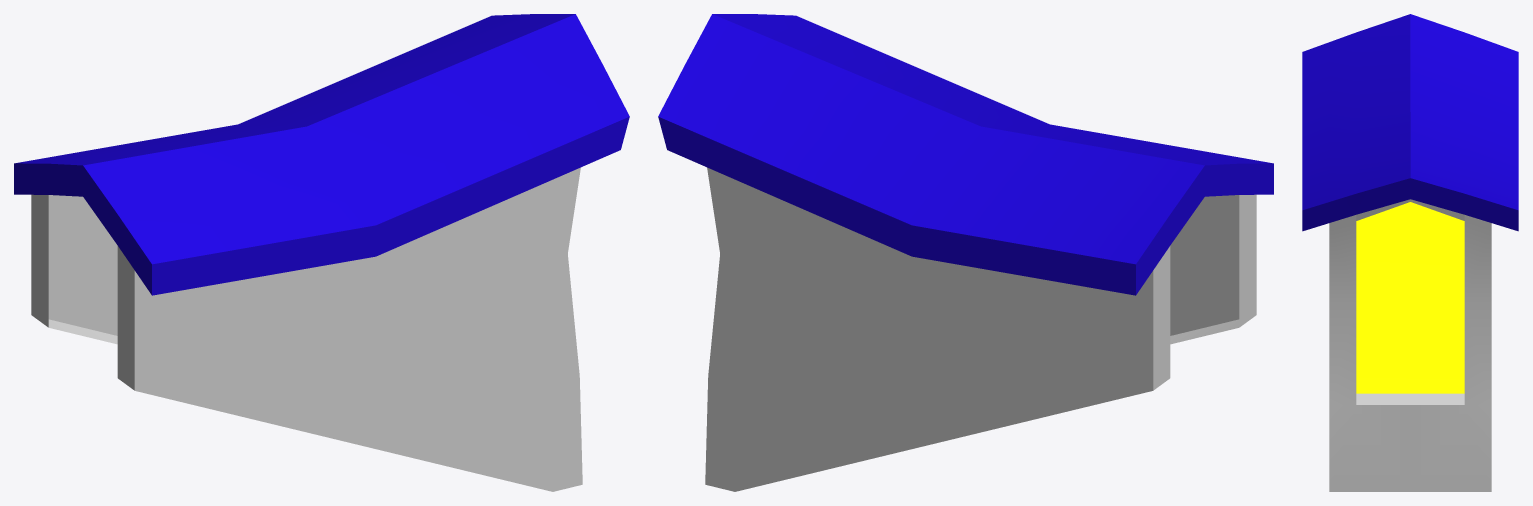
File: paris_window_roof_1.glb
The picture shows the model from 3 angles, left to right: view 1: azimuth 30°, elevation 25°; view 2: azimuth 150°, elevation 25°; view 3: azimuth 270°, elevation 25°; orthographic projection. The views are drawn at different scales.
Visible parts, largest first — view 1: Cube-col; view 2: Cube-col; view 3: Cube-col.
Boxes of the visible parts, <box> form: Cube-col: <box>14,14,629,491</box>; Cube-col: <box>658,14,1273,491</box>; Cube-col: <box>1302,14,1518,491</box>.
Bounding box in the file's own units: 3.3 × 2.7 × 1.6.
